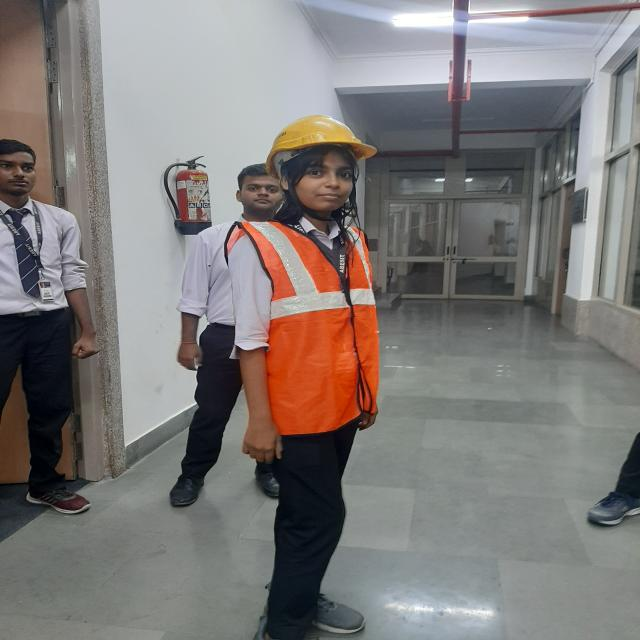safe: (197, 112, 393, 640)
unsafe: (0, 140, 104, 518)
